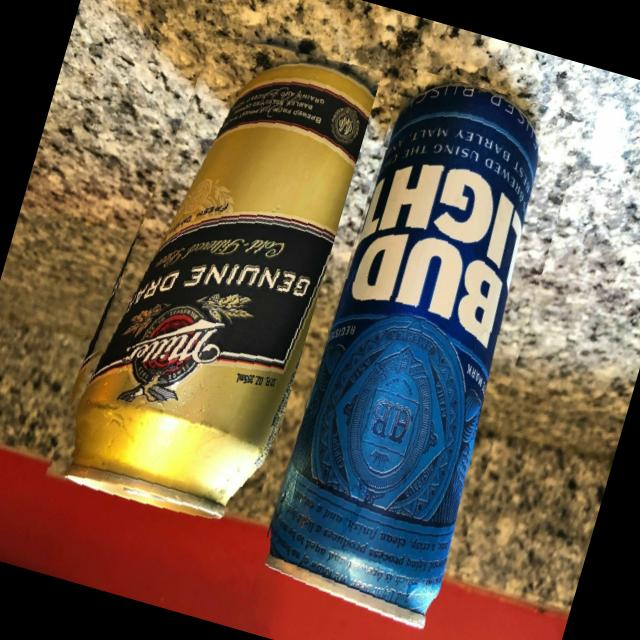Cans: (242, 63, 585, 640), (35, 8, 382, 550)
